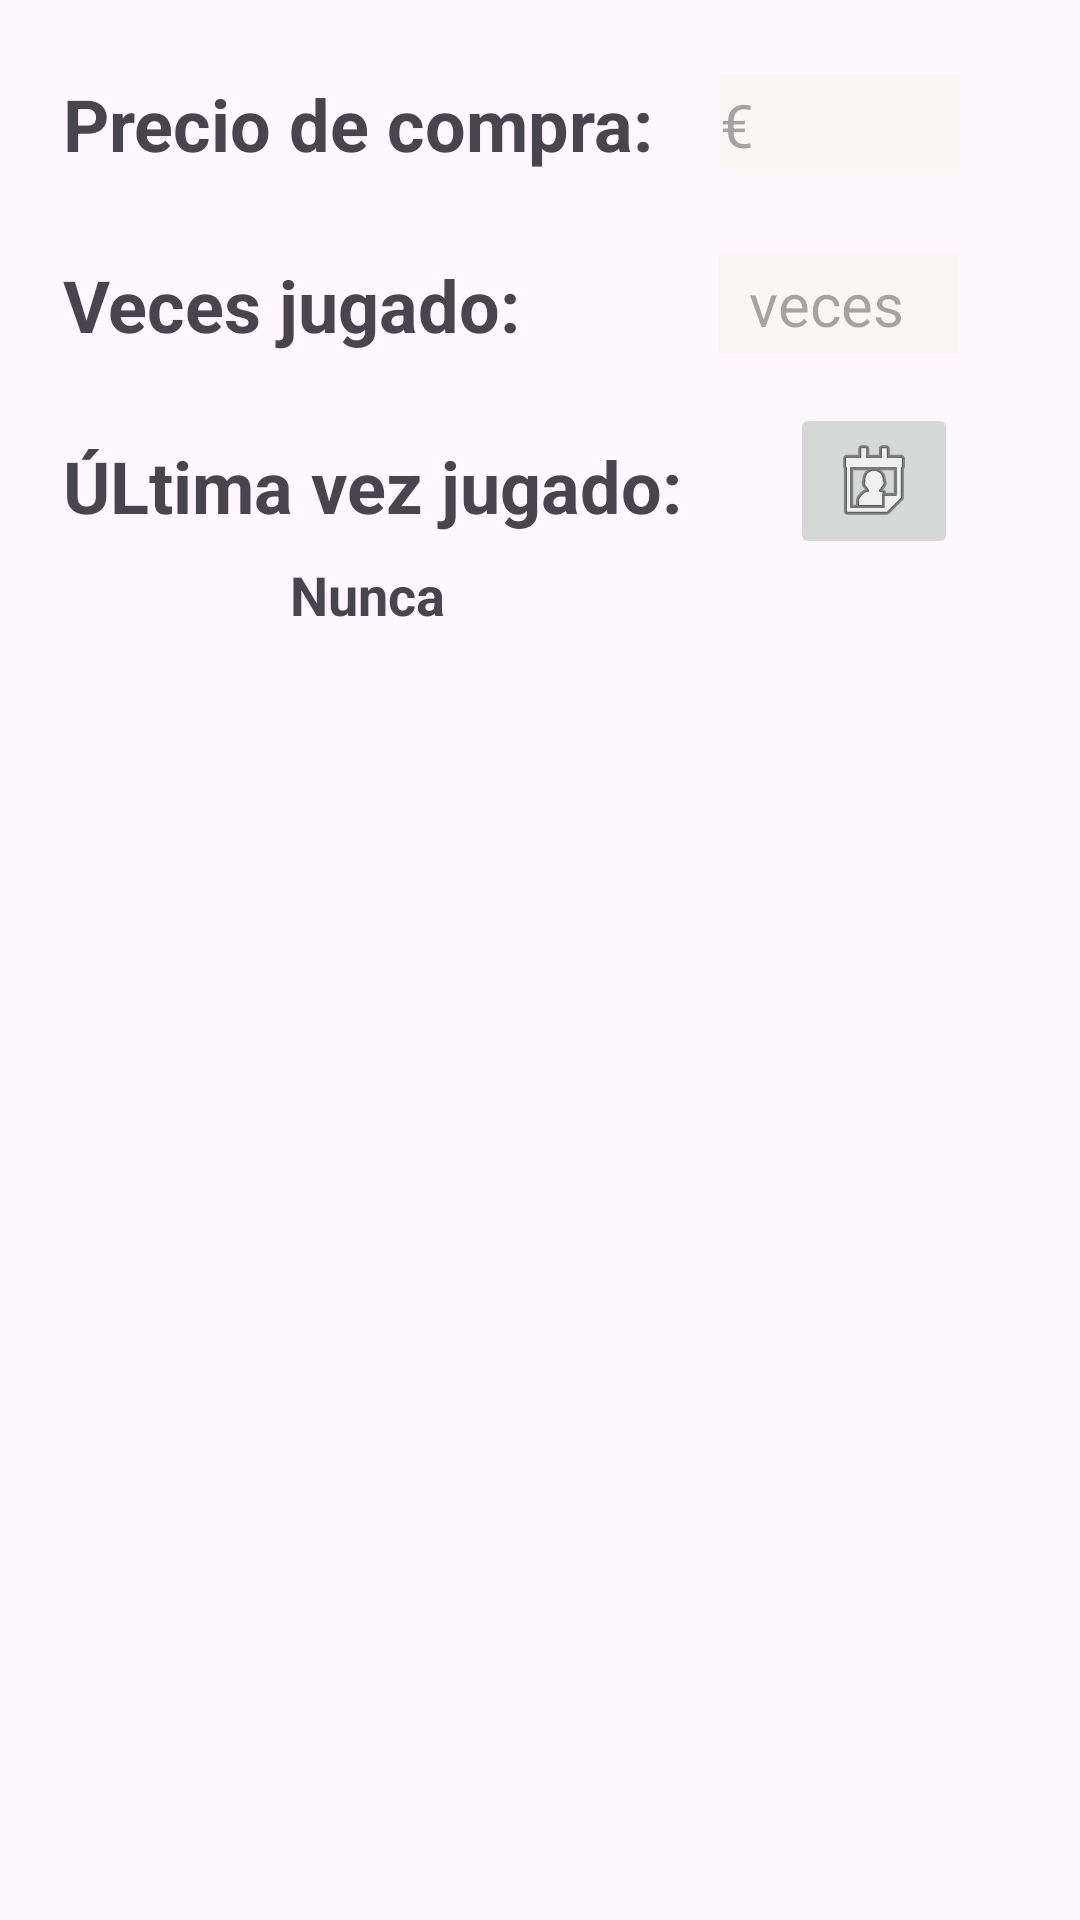

Where icons sit on this 1080w x 1920h app screen, as (x1, y1, x2, y2):
calendar: (802, 421, 946, 541)
